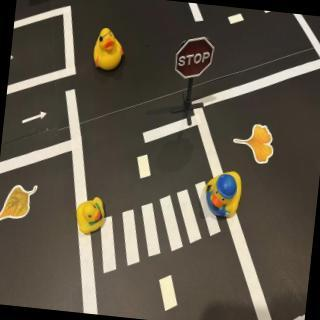duck_regular: (73, 193, 110, 237)
duck_specialty: (201, 168, 246, 222), (91, 27, 129, 75)
road_crosswalk: (94, 169, 229, 290)
road_oneway: (22, 109, 50, 130)
sign_stop: (174, 36, 216, 81)
